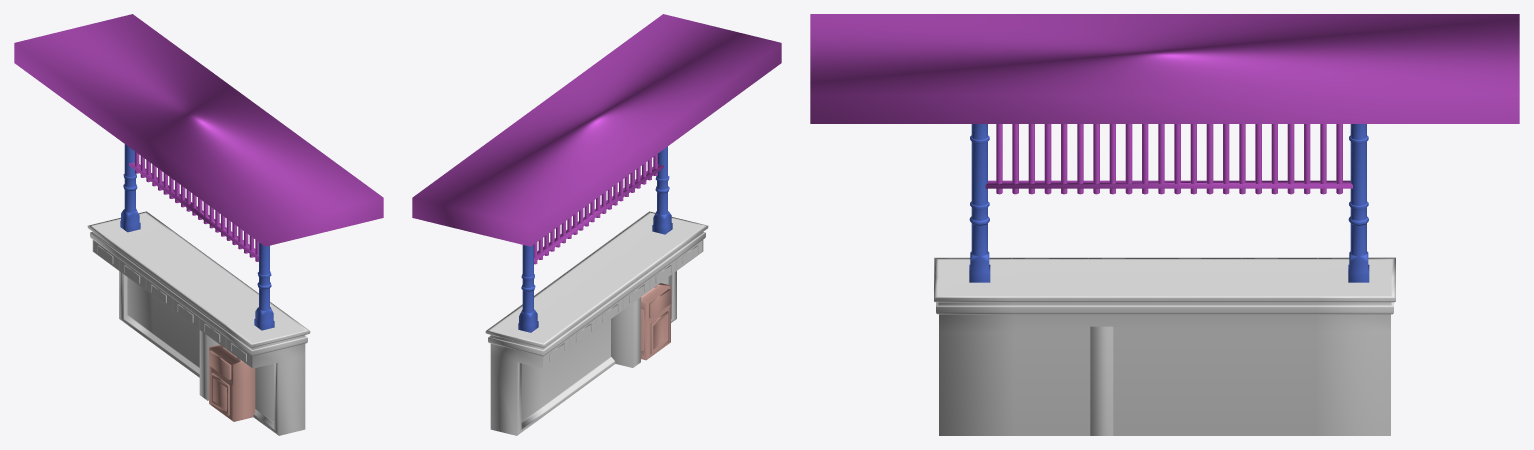
Rendered from bar_final.fbx.
3 renders of one model, left to right at view 1: azimuth 30°, elevation 25°; view 2: azimuth 150°, elevation 25°; view 3: azimuth 270°, elevation 25°, orthographic. The views are drawn at different scales.
Visible parts, largest first — view 1: bar_final; view 2: bar_final; view 3: bar_final.
Boxes of the visible parts, box(x1,y1,x2,y2) form: bar_final: box(14, 14, 383, 435); bar_final: box(412, 14, 781, 435); bar_final: box(810, 14, 1519, 435).
Bounding box in the file's own units: 1689 × 3503 × 6200.
